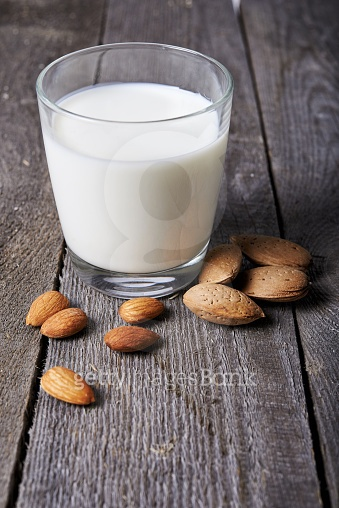glass of milk: (34, 43, 241, 300)
